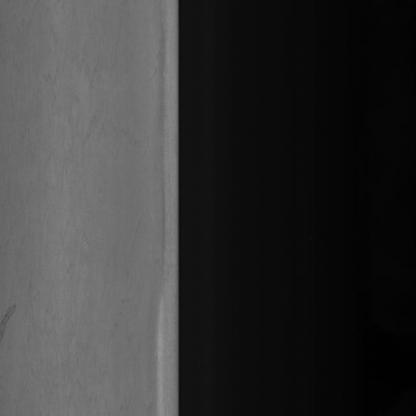water_spot: (2, 290, 23, 357)
